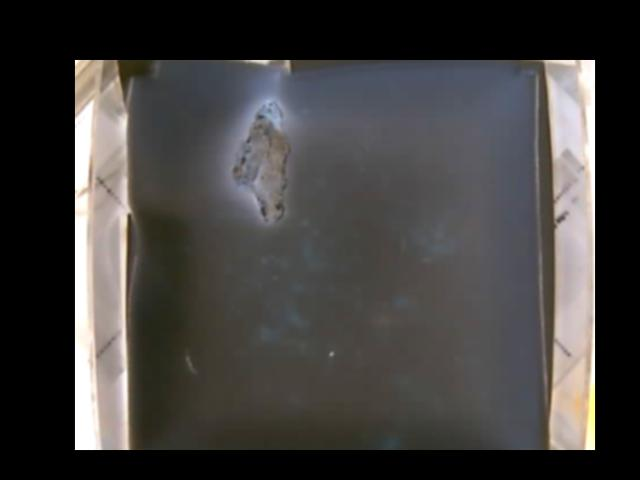Brisk: (230, 100, 287, 224)
